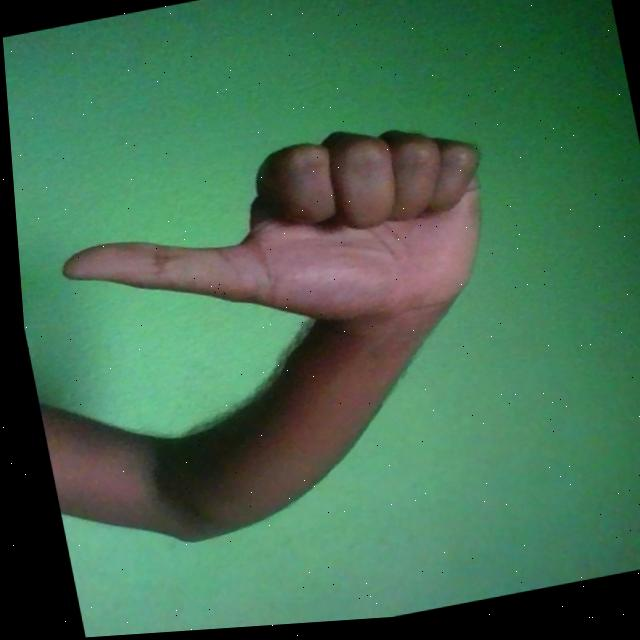Dislike: (40, 112, 510, 389)
